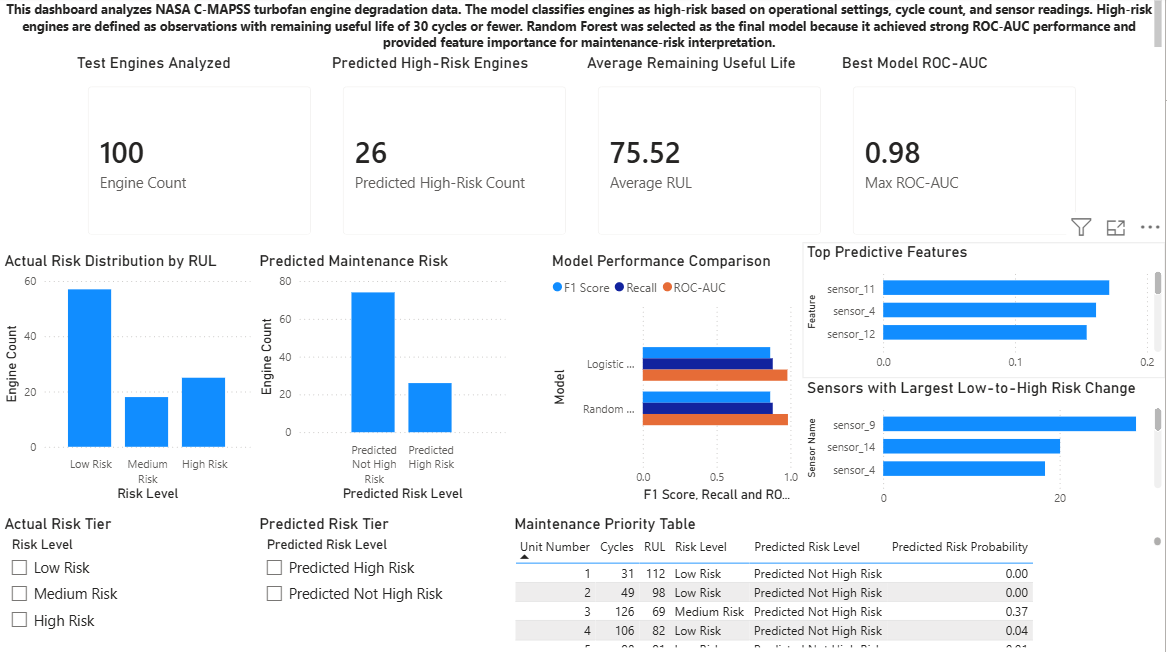

Layout of this report page (visuals, bound fields, positions):
{"tool":"powerbi","page":{"name":"Maintenance Risk Overview","canvas":[1280,720],"ordinal":0},"visuals":[{"type":"cardVisual","title":"Test Engines Analyzed","fields":{"Data":["CountNonNull(maintenance_priority.unit_number)"]},"box":[79.6,63.1,279.9,216.8],"z":0},{"type":"cardVisual","title":"Predicted High-Risk Engines","fields":{"Data":["Sum(maintenance_priority.predicted_high_risk)"]},"box":[359.5,63.1,279.9,216.8],"z":1000},{"type":"cardVisual","title":"Average Remaining Useful Life","fields":{"Data":["Avg(maintenance_priority.RUL)"]},"box":[639.5,63.1,279.9,216.8],"z":2000},{"type":"cardVisual","title":"Best Model ROC-AUC","fields":{"Data":["Max(model_metrics.roc_auc)"]},"box":[919.4,63.1,279.9,216.8],"z":3000},{"type":"clusteredColumnChart","title":"Actual Risk Distribution by RUL","fields":{"Category":["maintenance_priority.risk_label"],"Y":["CountNonNull(maintenance_priority.unit_number)"]},"box":[0,279.9,279.9,279.9],"z":4000},{"type":"clusteredColumnChart","title":"Predicted Maintenance Risk","fields":{"Category":["maintenance_priority.predicted_risk_label"],"Y":["CountNonNull(maintenance_priority.unit_number)"]},"box":[279.9,279.9,279.9,279.9],"z":5000},{"type":"clusteredBarChart","title":"Model Performance Comparison","fields":{"Category":["model_metrics.model"],"Y":["Avg(model_metrics.f1_score)","Avg(model_metrics.recall)","Avg(model_metrics.roc_auc)"]},"box":[601,279.9,279.9,279.9],"z":5001},{"type":"tableEx","title":"Maintenance Priority Table","fields":{"Values":["maintenance_priority.unit_number","maintenance_priority.time_in_cycles","maintenance_priority.RUL","maintenance_priority.risk_label","maintenance_priority.predicted_risk_label","maintenance_priority.predicted_risk_probability"]},"box":[559.9,569.5,720.4,150.9],"z":5002},{"type":"clusteredBarChart","title":"Top Predictive Features","fields":{"Y":["Avg(feature_importance.importance)"],"Category":["feature_importance.feature"]},"box":[881,270.3,399.3,149.6],"z":5003},{"type":"clusteredBarChart","title":"Sensors with Largest Low-to-High Risk Change","fields":{"Category":["sensor_change.sensor_name"],"Y":["Avg(sensor_change.absolute_change)"]},"box":[881,419.9,399.3,149.6],"z":5004},{"type":"slicer","title":"Actual Risk Tier","fields":{"Values":["maintenance_priority.risk_label"]},"box":[0,569.5,279.9,150.9],"z":5005},{"type":"slicer","title":"Predicted Risk Tier","fields":{"Values":["maintenance_priority.predicted_risk_label"]},"box":[279.9,569.5,279.9,150.9],"z":5006},{"type":"textbox","box":[0,0,1280.3,63.1],"z":5007}]}

Visuals, with their boxes on the page's 1280x720 design canvas (x1, y1, x2, y2). These are canvas units, not pixel positions in the 1167x652 screenshot, which may show the page scaled, cropped or inside an application window:
"Test Engines Analyzed" cardVisual: detection(80, 63, 360, 280)
"Predicted High-Risk Engines" cardVisual: detection(360, 63, 639, 280)
"Average Remaining Useful Life" cardVisual: detection(640, 63, 919, 280)
"Best Model ROC-AUC" cardVisual: detection(919, 63, 1199, 280)
"Actual Risk Distribution by RUL" clusteredColumnChart: detection(0, 280, 280, 560)
"Predicted Maintenance Risk" clusteredColumnChart: detection(280, 280, 560, 560)
"Model Performance Comparison" clusteredBarChart: detection(601, 280, 881, 560)
"Maintenance Priority Table" tableEx: detection(560, 570, 1280, 720)
"Top Predictive Features" clusteredBarChart: detection(881, 270, 1280, 420)
"Sensors with Largest Low-to-High Risk Change" clusteredBarChart: detection(881, 420, 1280, 570)
"Actual Risk Tier" slicer: detection(0, 570, 280, 720)
"Predicted Risk Tier" slicer: detection(280, 570, 560, 720)
textbox: detection(0, 0, 1280, 63)
